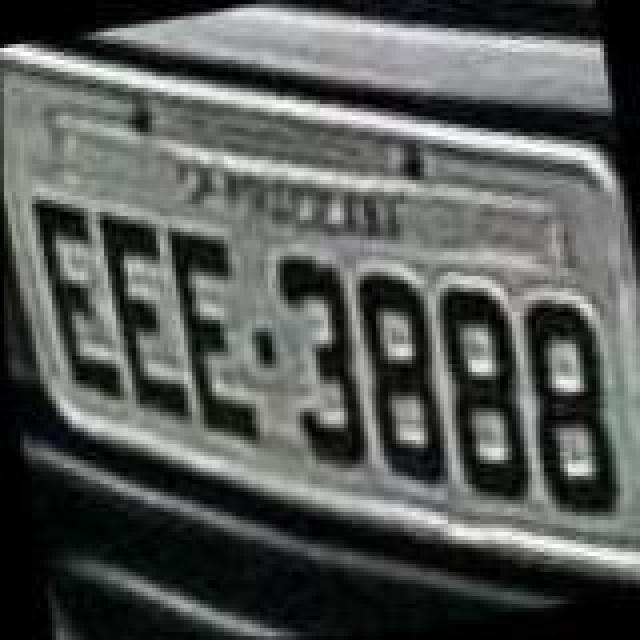3: (268, 242, 380, 474)
8: (506, 290, 630, 526), (424, 276, 544, 512), (342, 260, 458, 496)
E: (160, 216, 264, 452), (92, 204, 196, 436), (24, 188, 128, 412)
